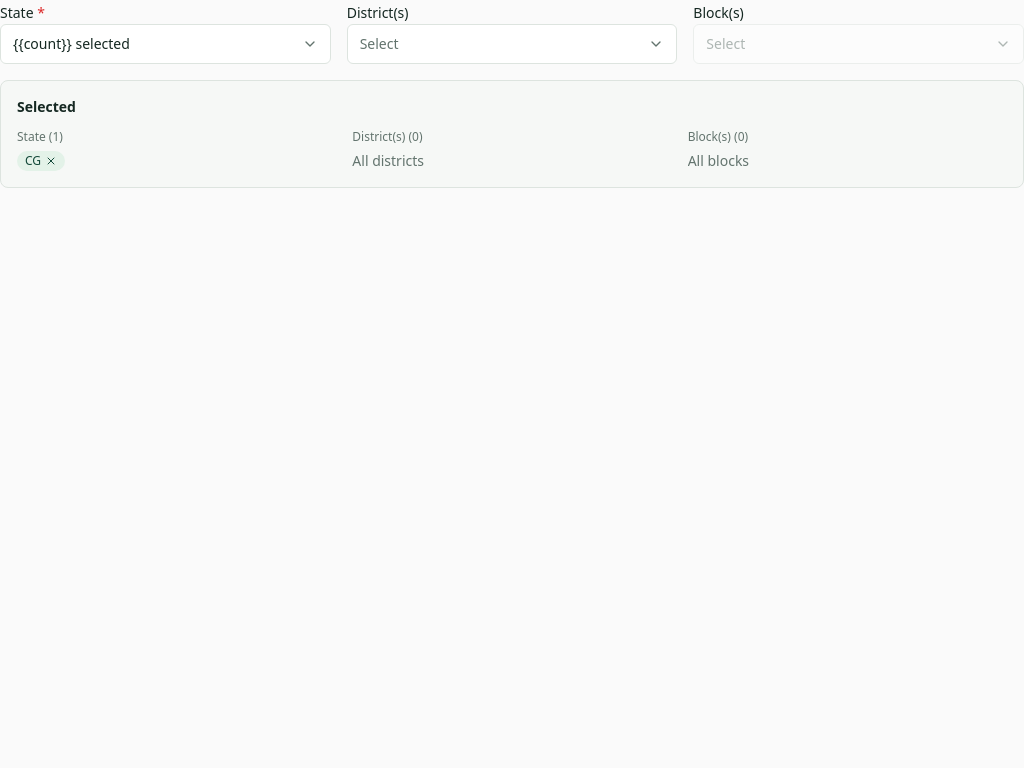
Test case: BoundaryMultiPicker › offers only the districts of the selected state
This screenshot has width=1024, height=768.
Click the button named "District": (379, 44) [347, 24, 677, 64]
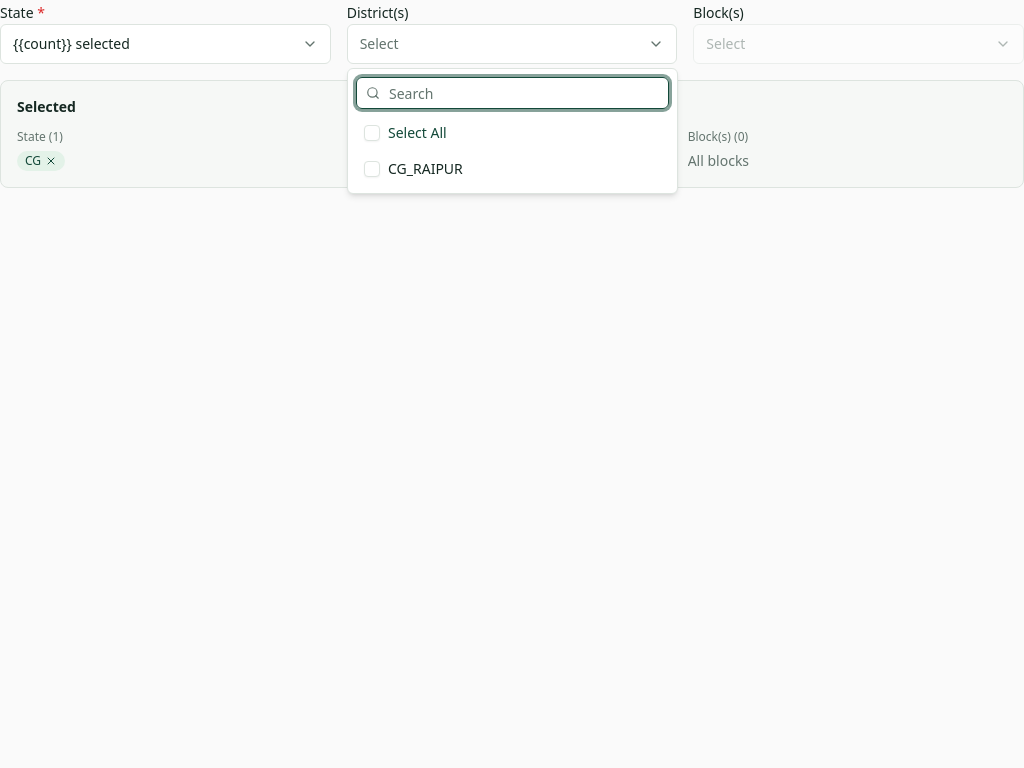
Expected: the text "CG_RAIPUR" is shown, [388, 159, 463, 179]
